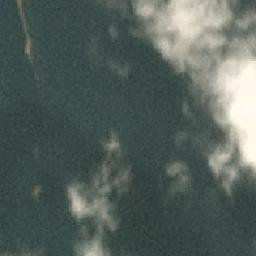cloud: (131, 1, 256, 192), (65, 131, 130, 256)
